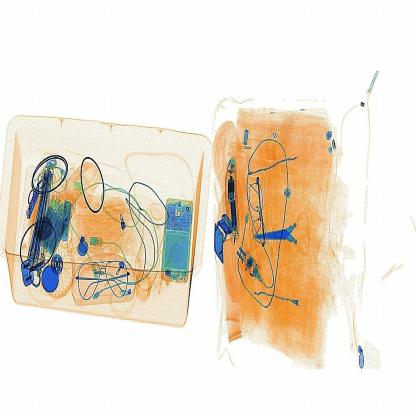gun: (250, 211, 328, 263)
